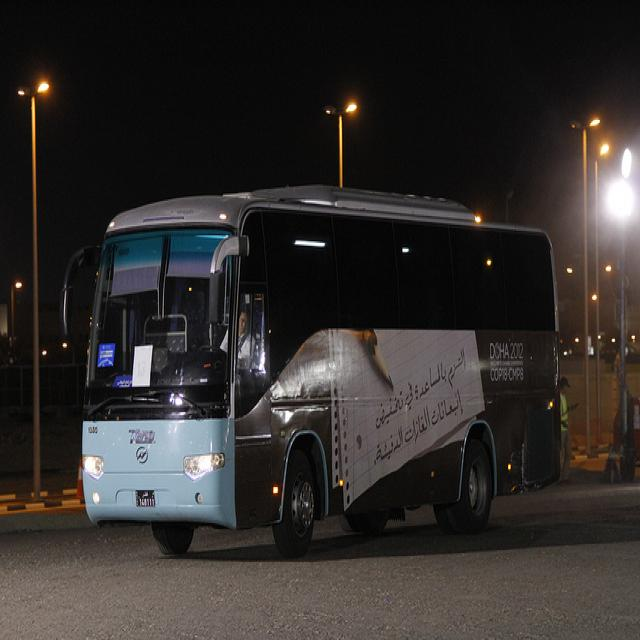Bus: (58, 172, 560, 560)
People: (549, 360, 595, 495), (222, 290, 256, 364)
